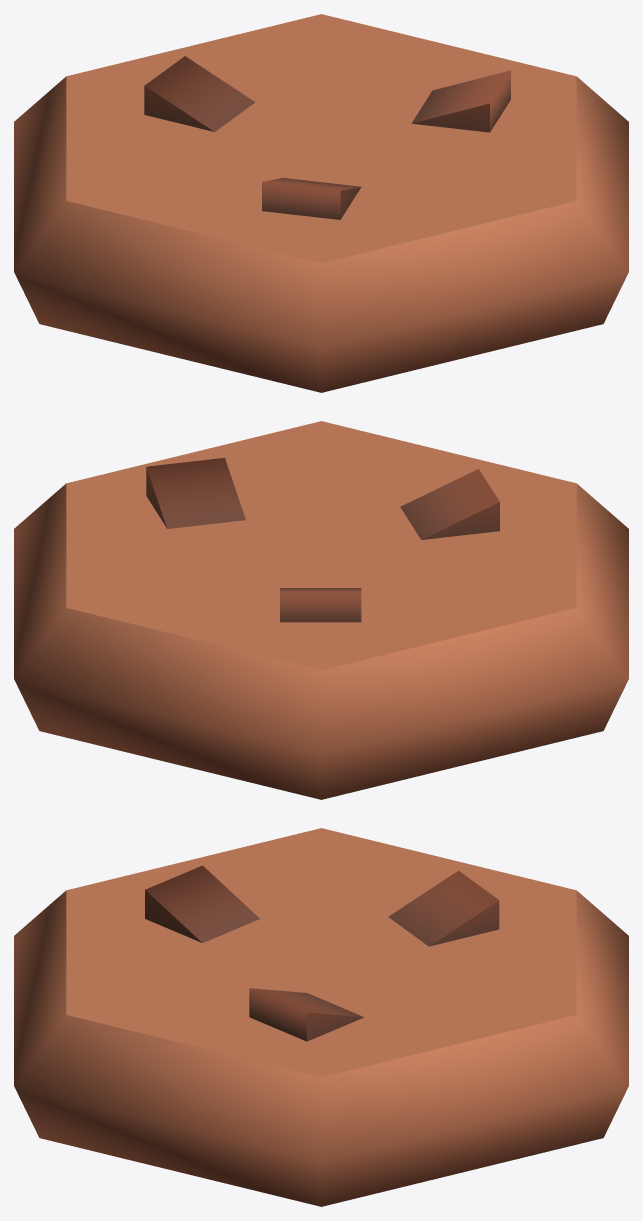
The model's file is cookie.glb.
The picture shows the model from 3 angles, top to bottom: view 1: azimuth 30°, elevation 25°; view 2: azimuth 150°, elevation 25°; view 3: azimuth 270°, elevation 25°; orthographic projection.
Parts seen in each view (by area): view 1: cookie; view 2: cookie; view 3: cookie.
Part boxes in pixels (x1,y1,x2,y2): cookie: (14,14,628,392); cookie: (14,421,628,799); cookie: (14,828,628,1206).
Size of the model in its own units: 0.2197 by 0.0498 by 0.1903.
